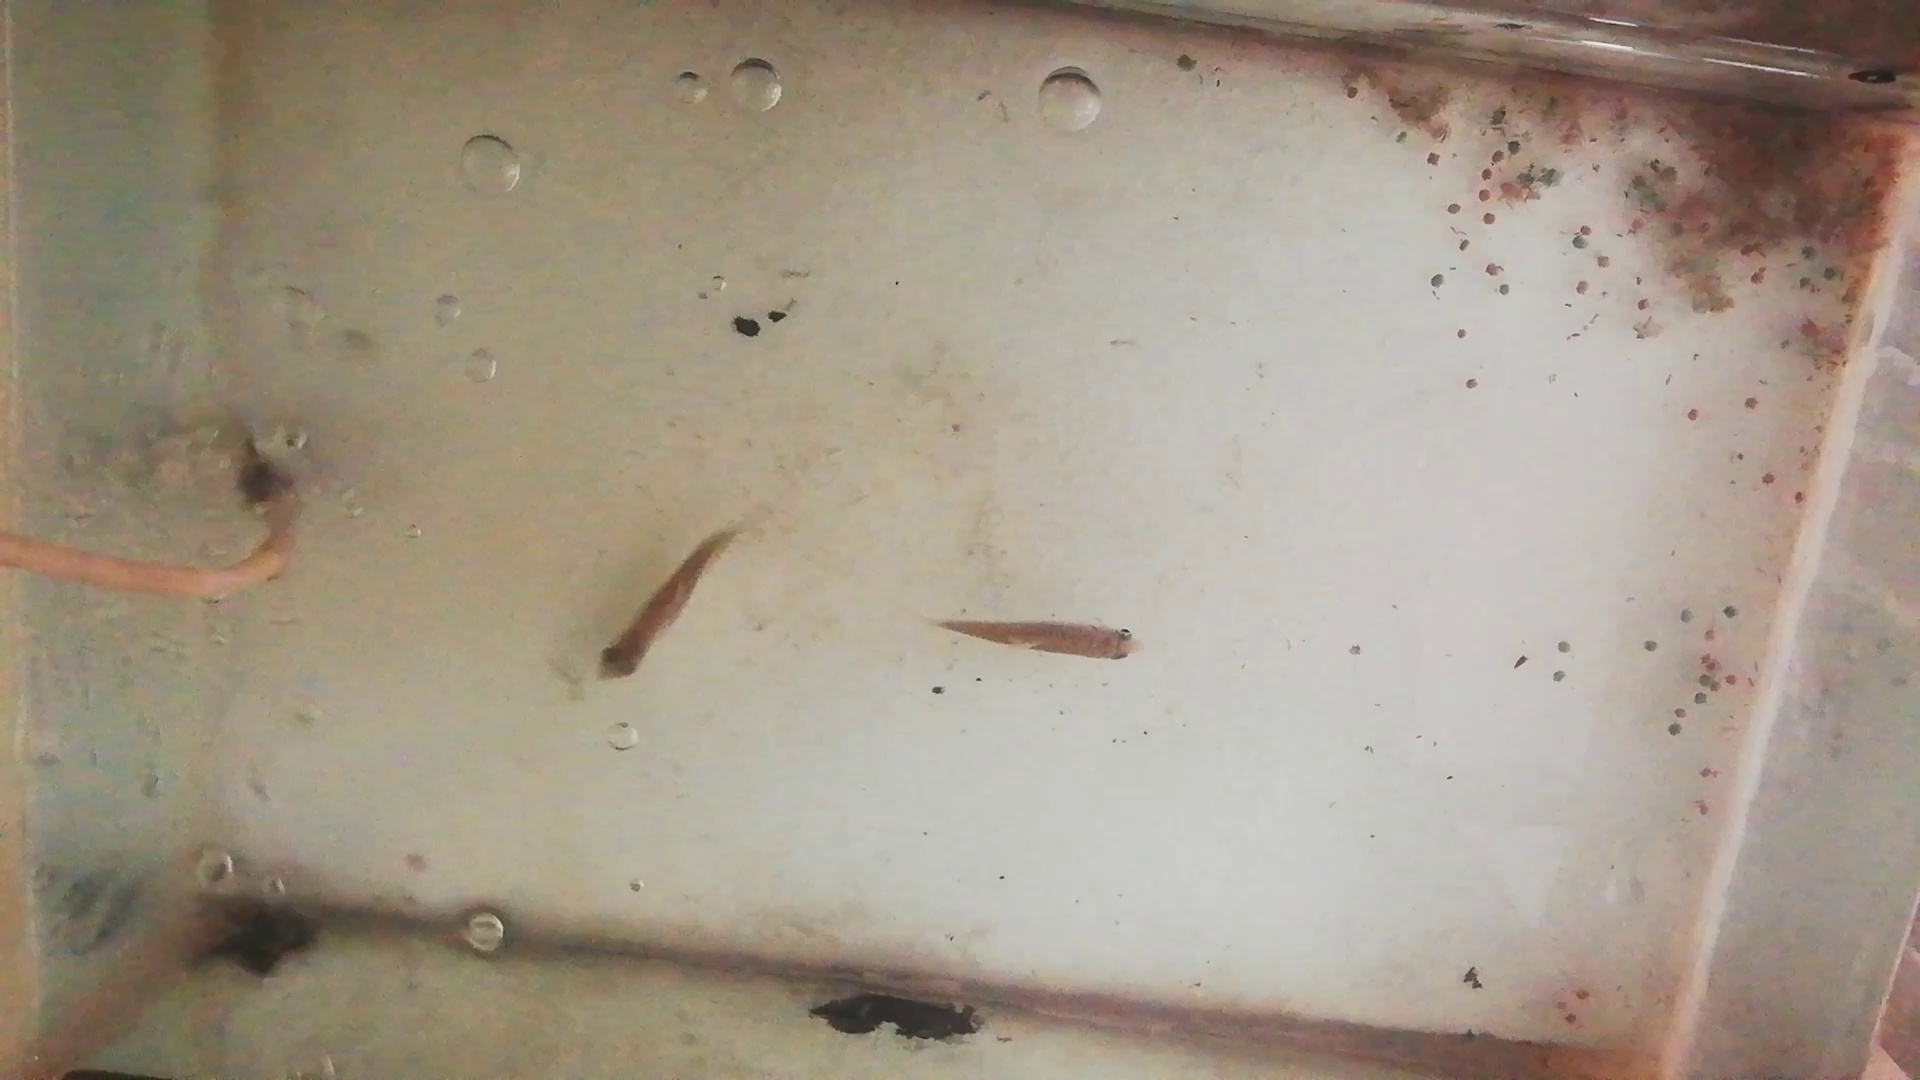fish: (595, 530, 733, 680), (939, 615, 1145, 665)
